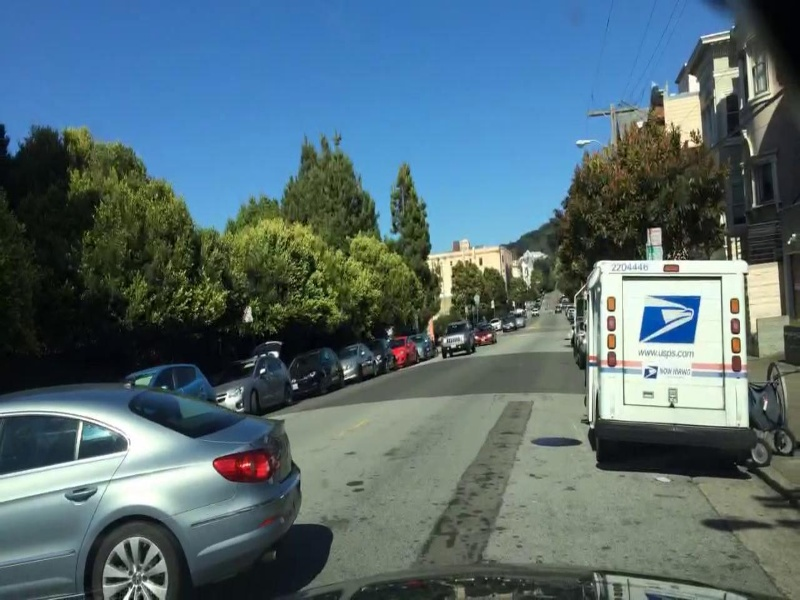car: (1, 372, 305, 600), (575, 229, 767, 472), (209, 346, 295, 423), (137, 357, 210, 407), (297, 339, 341, 393), (340, 336, 373, 386), (437, 315, 476, 354), (415, 326, 438, 363), (392, 332, 414, 367), (376, 333, 393, 376), (475, 321, 498, 349), (531, 299, 547, 323), (503, 308, 517, 332), (501, 313, 517, 328), (521, 306, 528, 327)
